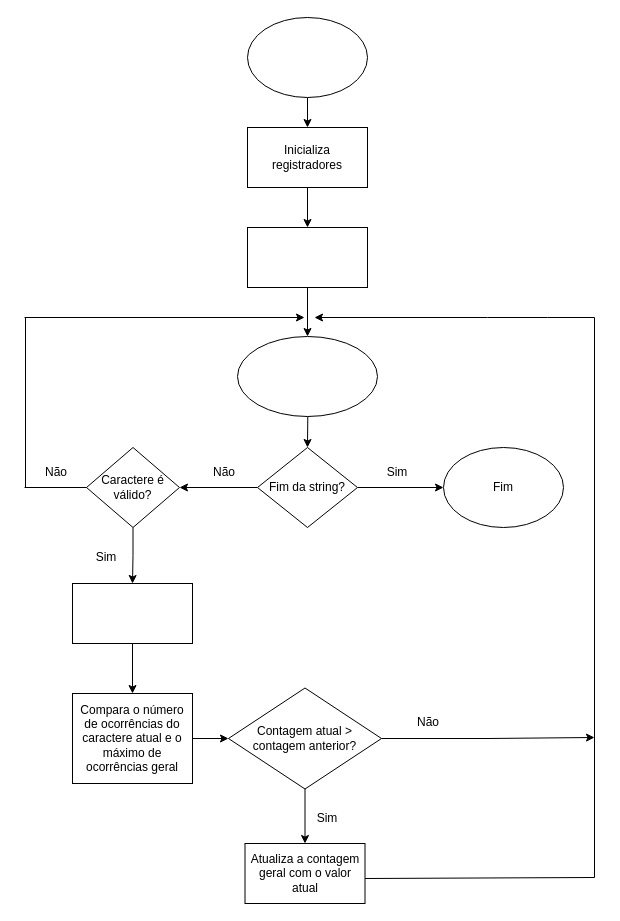
This 620x921 diagram has some shape labels left out. Each missing label, with the centre of its shape:
Calcula sua posição no vetor de ocorrências e lê a contagem: [132,613]
Inicializa vetor de ocorrências: [307,257]
Início: [307,57]
Loop de verificação dos caracteres: [307,376]
